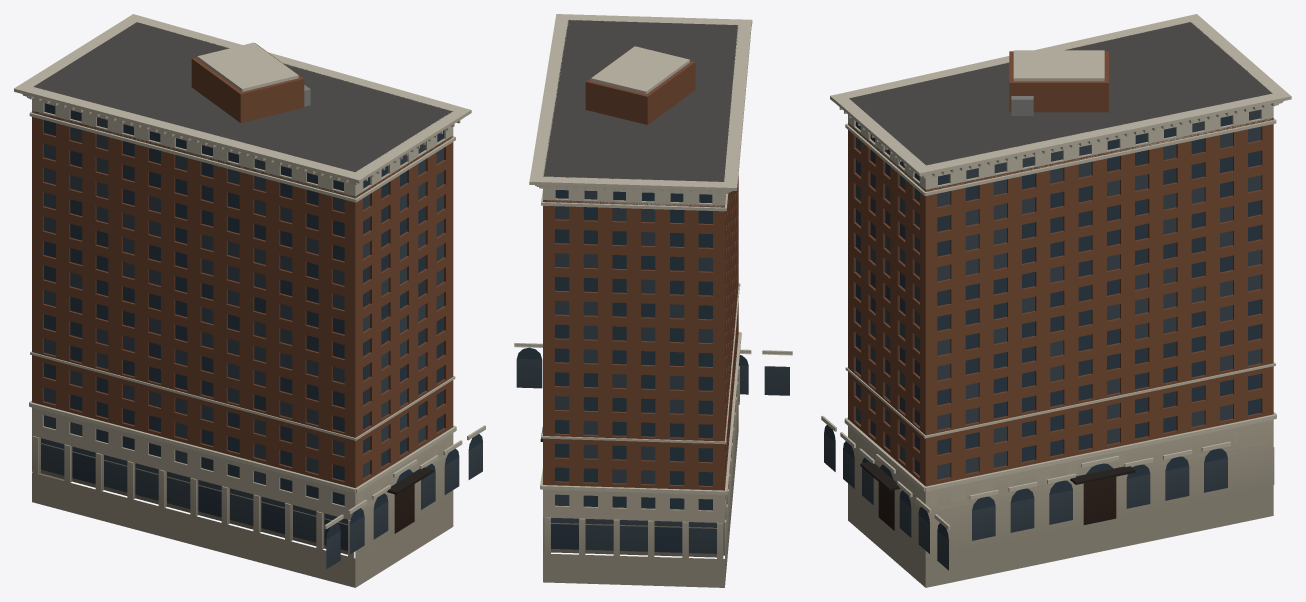
File: leclaire.glb
3 views of the same model, side by side, from view 1: azimuth 30°, elevation 25°; view 2: azimuth 150°, elevation 25°; view 3: azimuth 270°, elevation 25° (orthographic). The views are drawn at different scales.
Visible parts, largest first — view 1: leclaire_lod0; view 2: leclaire_lod0; view 3: leclaire_lod0.
Part boxes in pixels (x1,y1,x2,y2): leclaire_lod0: (14, 14, 485, 587); leclaire_lod0: (514, 14, 792, 587); leclaire_lod0: (821, 14, 1291, 587).
Size of what is drawn, in the model's own units: 49.56 by 60.5 by 56.73.
